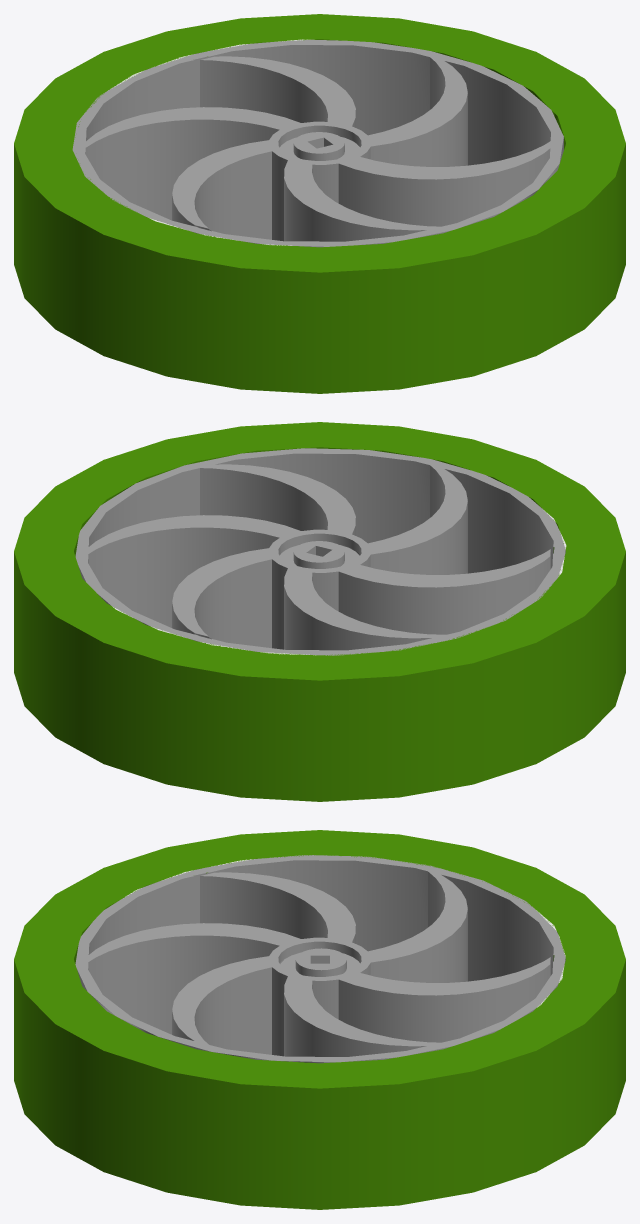
The model's file is Wheel.fbx.
3 renders of one model, top to bottom at view 1: azimuth 30°, elevation 25°; view 2: azimuth 150°, elevation 25°; view 3: azimuth 270°, elevation 25°, orthographic.
Parts seen in each view (by area): view 1: medium_wheel1; view 2: medium_wheel1; view 3: medium_wheel1.
Part boxes in pixels (bbox=[...]): medium_wheel1: bbox=[14, 14, 625, 393]; medium_wheel1: bbox=[14, 422, 625, 801]; medium_wheel1: bbox=[14, 830, 625, 1209].
Bounding box in the file's own units: 4 × 0.875 × 4.
